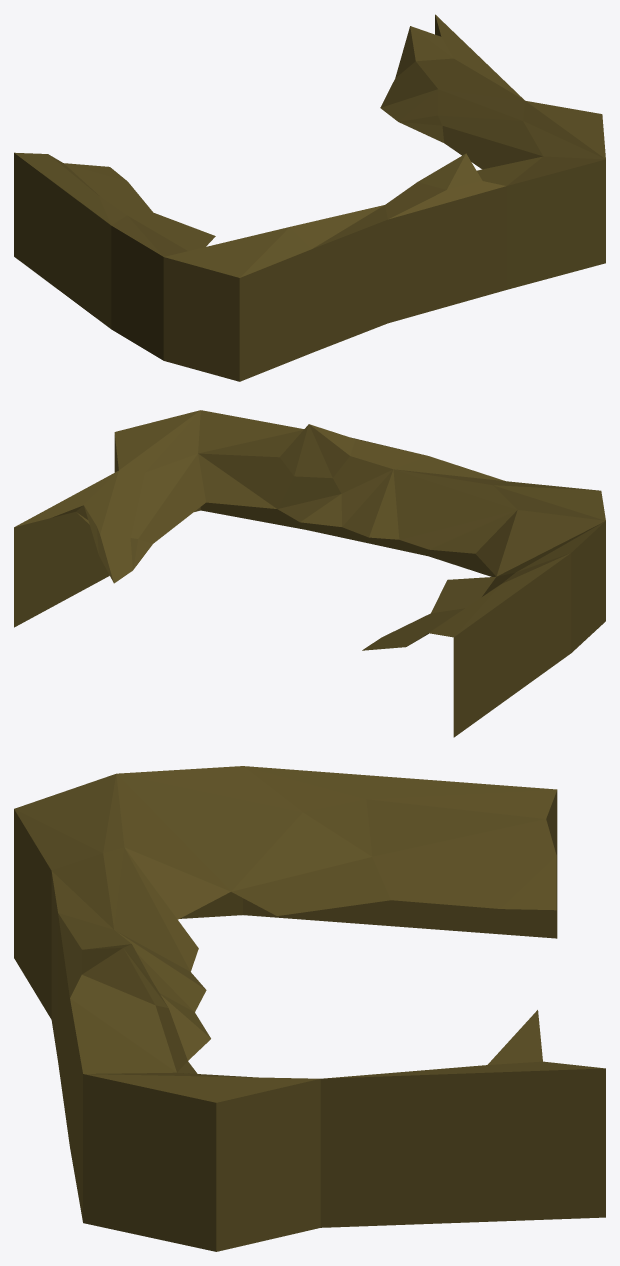
File: Hills02.FBX
3 renders of one model, top to bottom at view 1: azimuth 30°, elevation 25°; view 2: azimuth 150°, elevation 25°; view 3: azimuth 270°, elevation 25°, orthographic. The views are drawn at different scales.
Parts seen in each view (by area): view 1: AtomicHills02; view 2: AtomicHills02; view 3: AtomicHills02.
Part boxes in pixels (x1,y1,x2,y2): AtomicHills02: [14, 14, 605, 381]; AtomicHills02: [14, 410, 605, 737]; AtomicHills02: [14, 766, 605, 1251].
Bounding box in the file's own units: 287965 × 80329 × 213386.
